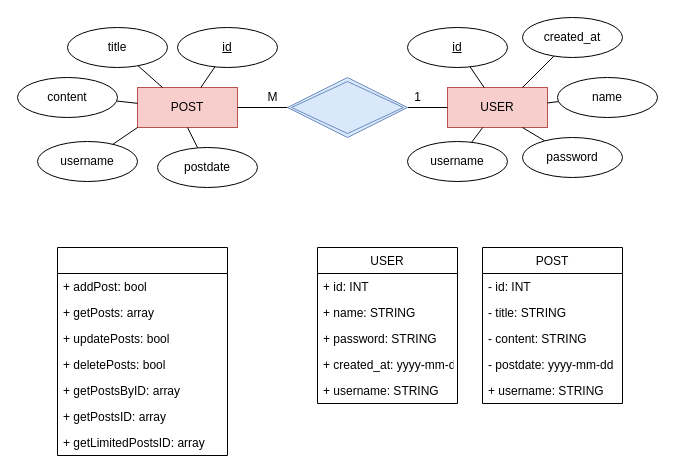
The diagram is 675 pixels wide and 476 high, and some of its shapes have lost their labels. The shapes that lost their labels are listed below. From the top down, each one's box as (x1, y1, x2, y2) in pixels, then its label:
(286, 76, 408, 138): Have
(56, 246, 228, 456): CLASS: POST
